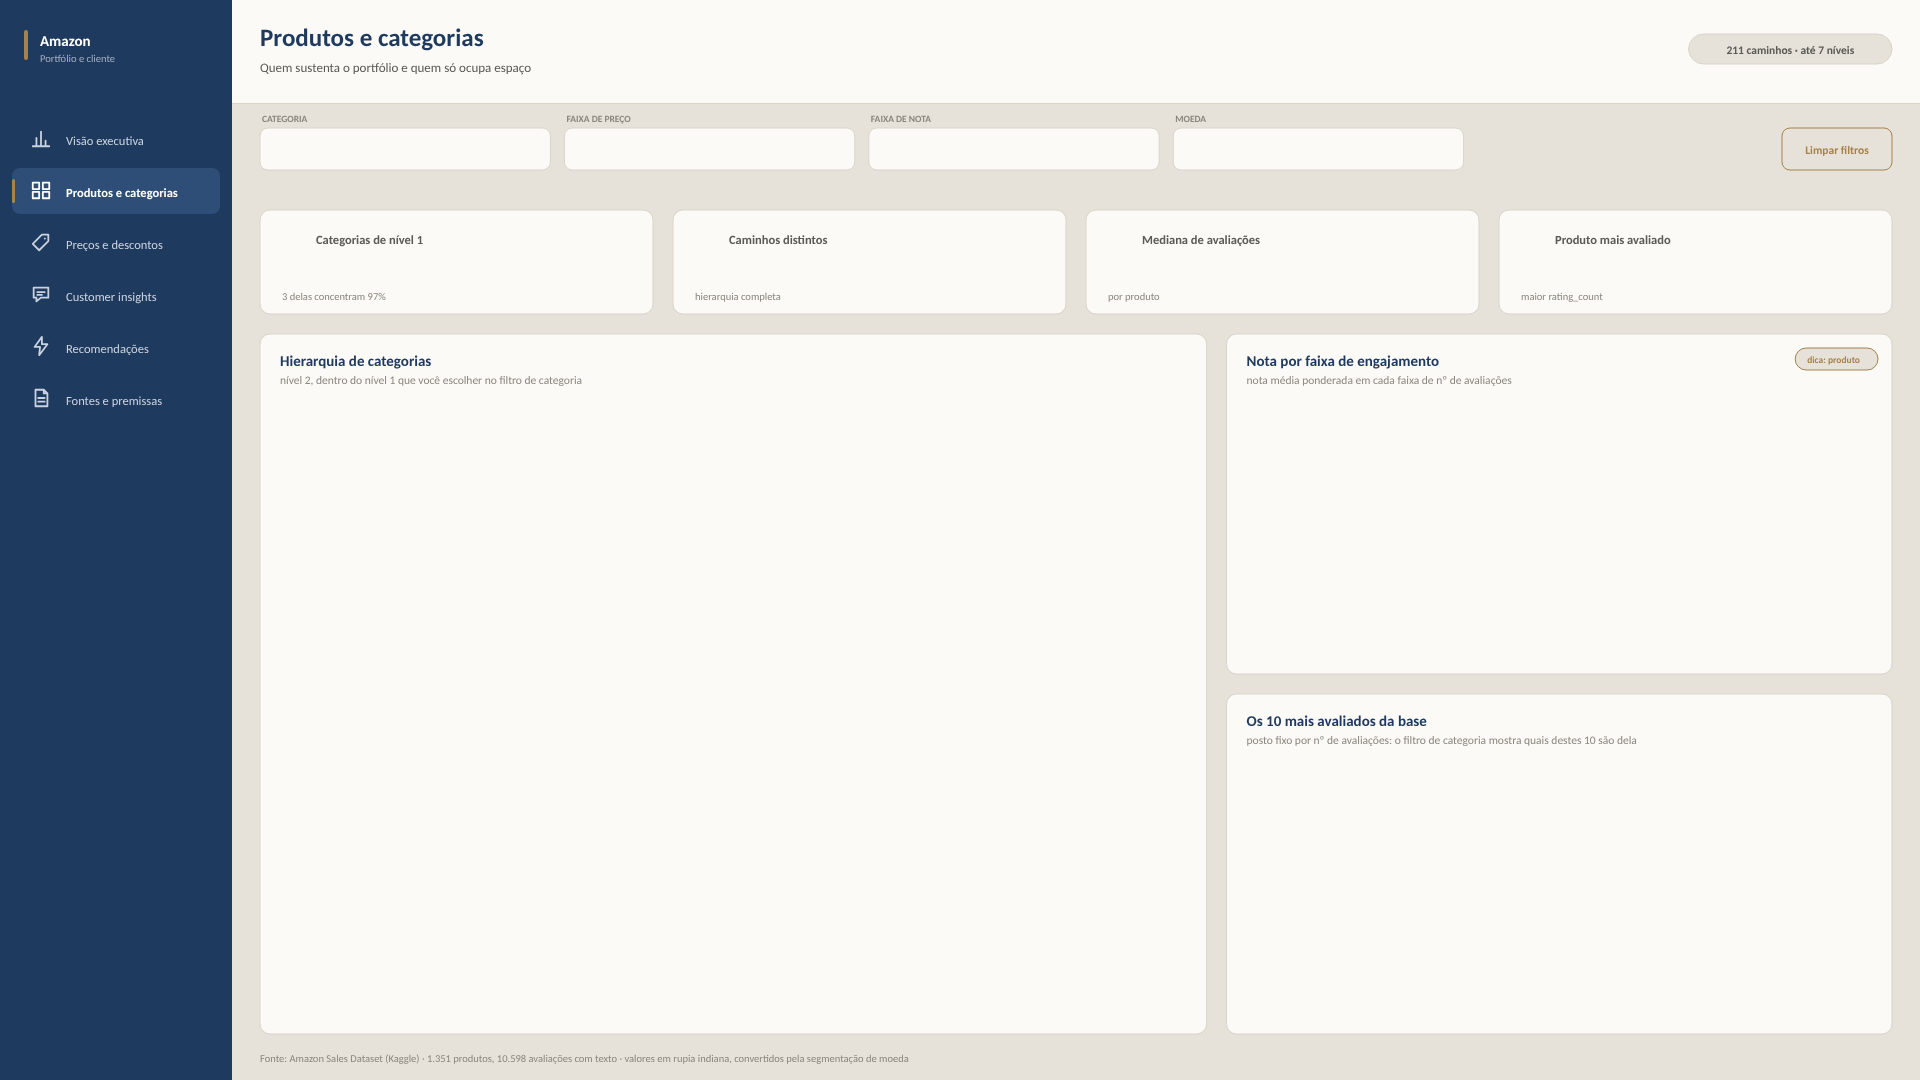

What the dashboard file says about the page in this screenshot:
{"tool":"powerbi","page":{"name":"Produtos e categorias","canvas":[1920,1080],"ordinal":1},"visuals":[{"type":"slicer","fields":{"Values":["dCategoria.nivel_1"]},"box":[260,128,290.4,42],"z":0},{"type":"slicer","fields":{"Values":["fProdutos.faixa_preco"]},"box":[564.4,128,290.4,42],"z":1},{"type":"slicer","fields":{"Values":["fProdutos.faixa_nota"]},"box":[868.8,128,290.4,42],"z":2},{"type":"slicer","fields":{"Values":["dMoeda.moeda"]},"box":[1173.2,128,290.4,42],"z":3},{"type":"clusteredBarChart","fields":{"Category":["dCategoria.nivel_2"],"Y":["_Medidas.Produtos"]},"box":[276,400,914.6,618],"z":100},{"type":"clusteredColumnChart","fields":{"Category":["fProdutos.faixa_engajamento"],"Y":["_Medidas.Nota média ponderada"]},"box":[1242.6,400,633.4,258],"z":101},{"type":"tableEx","fields":{"Values":["fProdutos.product_name","_Medidas.Avaliações","_Medidas.Nota média ponderada","_Medidas.Preço com desconto"]},"box":[1242.6,760,633.4,258],"z":102},{"type":"actionButton","box":[1782,128,110,42],"z":900},{"type":"card","fields":{"Values":["_Medidas.Categorias de nível 1"]},"box":[280,246,353,52],"z":11000},{"type":"card","fields":{"Values":["_Medidas.Caminhos de categoria"]},"box":[693,246,353,52],"z":11001},{"type":"card","fields":{"Values":["_Medidas.Mediana de avaliações"]},"box":[1106,246,353,52],"z":11002},{"type":"card","fields":{"Values":["_Medidas.Produto mais avaliado"]},"box":[1519,246,353,52],"z":11003},{"type":"actionButton","box":[12,116,208,46],"z":20000},{"type":"actionButton","box":[12,220,208,46],"z":20002},{"type":"actionButton","box":[12,272,208,46],"z":20003},{"type":"actionButton","box":[12,324,208,46],"z":20004},{"type":"actionButton","box":[12,376,208,46],"z":20005}]}

Visuals, with their boxes on the page's 1920x1080 design canvas (x1, y1, x2, y2). These are canvas units, not pixel positions in the 1920x1080 screenshot, which may show the page scaled, cropped or inside an application window:
slicer - dCategoria.nivel_1: {"x1": 260, "y1": 128, "x2": 550, "y2": 170}
slicer - fProdutos.faixa_preco: {"x1": 564, "y1": 128, "x2": 855, "y2": 170}
slicer - fProdutos.faixa_nota: {"x1": 869, "y1": 128, "x2": 1159, "y2": 170}
slicer - dMoeda.moeda: {"x1": 1173, "y1": 128, "x2": 1464, "y2": 170}
clusteredBarChart - dCategoria.nivel_2 x _Medidas.Produtos: {"x1": 276, "y1": 400, "x2": 1191, "y2": 1018}
clusteredColumnChart - fProdutos.faixa_engajamento x _Medidas.Nota média ponderada: {"x1": 1243, "y1": 400, "x2": 1876, "y2": 658}
tableEx - fProdutos.product_name x _Medidas.Avaliações: {"x1": 1243, "y1": 760, "x2": 1876, "y2": 1018}
actionButton: {"x1": 1782, "y1": 128, "x2": 1892, "y2": 170}
card - _Medidas.Categorias de nível 1: {"x1": 280, "y1": 246, "x2": 633, "y2": 298}
card - _Medidas.Caminhos de categoria: {"x1": 693, "y1": 246, "x2": 1046, "y2": 298}
card - _Medidas.Mediana de avaliações: {"x1": 1106, "y1": 246, "x2": 1459, "y2": 298}
card - _Medidas.Produto mais avaliado: {"x1": 1519, "y1": 246, "x2": 1872, "y2": 298}
actionButton: {"x1": 12, "y1": 116, "x2": 220, "y2": 162}
actionButton: {"x1": 12, "y1": 220, "x2": 220, "y2": 266}
actionButton: {"x1": 12, "y1": 272, "x2": 220, "y2": 318}
actionButton: {"x1": 12, "y1": 324, "x2": 220, "y2": 370}
actionButton: {"x1": 12, "y1": 376, "x2": 220, "y2": 422}
